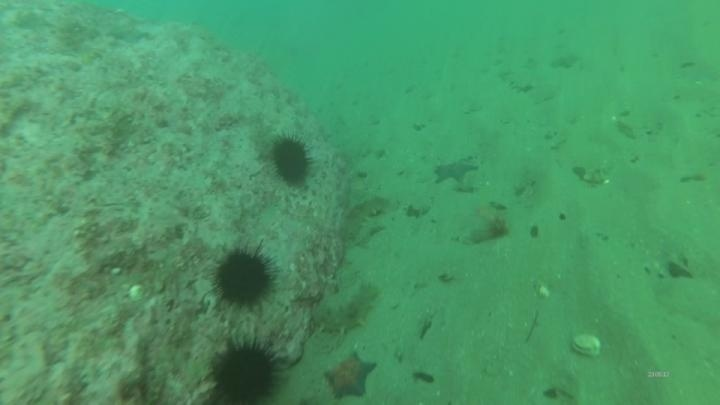echinus: (206, 335, 286, 404), (209, 242, 279, 312), (268, 133, 314, 187)
holothurian: (310, 276, 382, 337), (340, 191, 390, 246)
scallop: (569, 330, 604, 359)
starfish: (321, 347, 379, 402), (432, 155, 481, 186)
